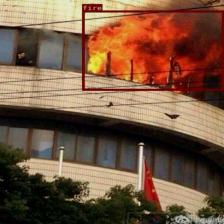fire: (82, 10, 224, 90)
